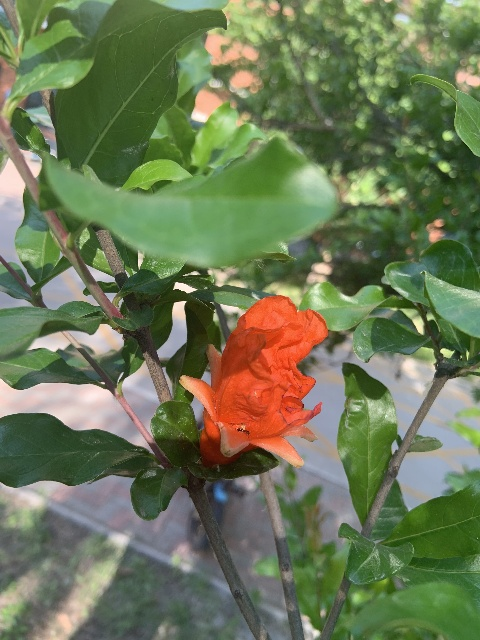flower: (180, 294, 328, 470)
